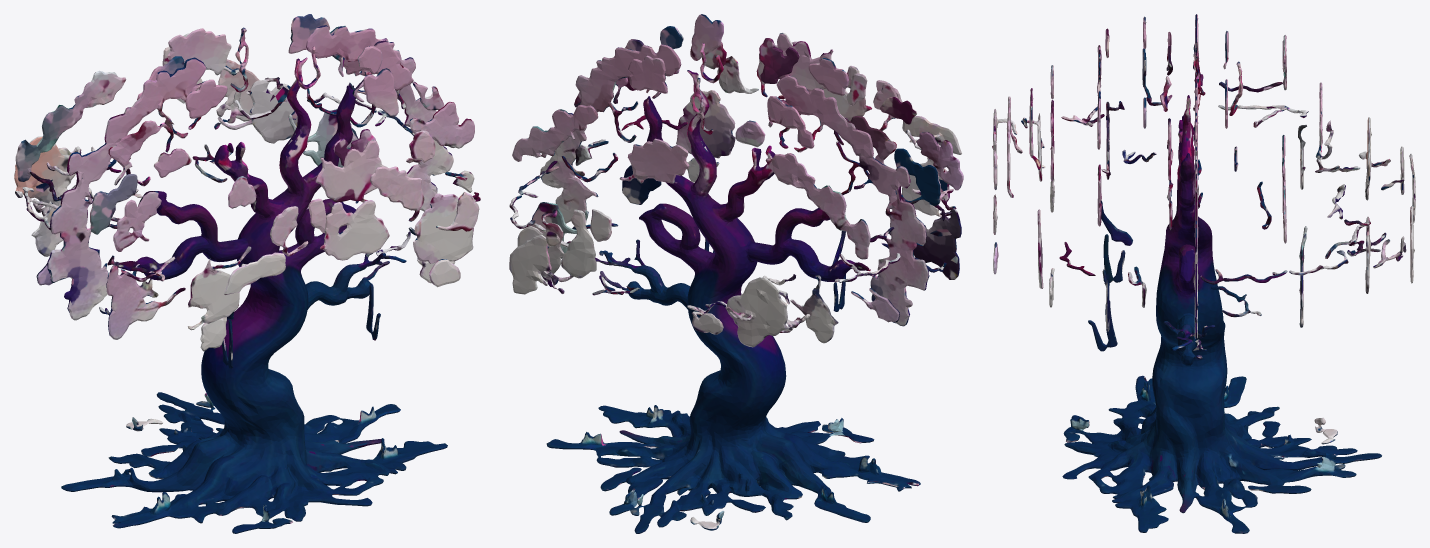
Rendered from branch-west-generated-2026-04-19T17-30-56-202Z.glb.
3 renders of one model, left to right at view 1: azimuth 30°, elevation 25°; view 2: azimuth 150°, elevation 25°; view 3: azimuth 270°, elevation 25°, orthographic. The views are drawn at different scales.
Parts seen in each view (by area): view 1: temp_mesh.ply; view 2: temp_mesh.ply; view 3: temp_mesh.ply.
Boxes of the visible parts, <box> form: temp_mesh.ply: <box>14,14,480,533</box>; temp_mesh.ply: <box>509,14,963,533</box>; temp_mesh.ply: <box>992,14,1415,533</box>.
Bounding box in the file's own units: 1.97 × 1.97 × 1.86.
Materials: 1 (1 with a texture image).
